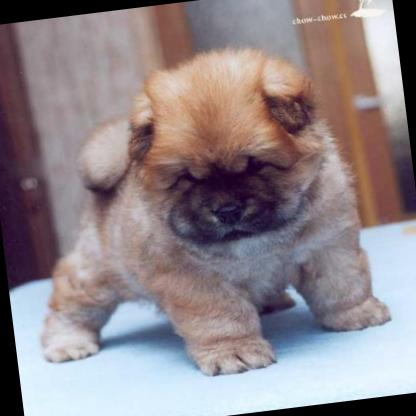chow: (6, 32, 396, 392)
